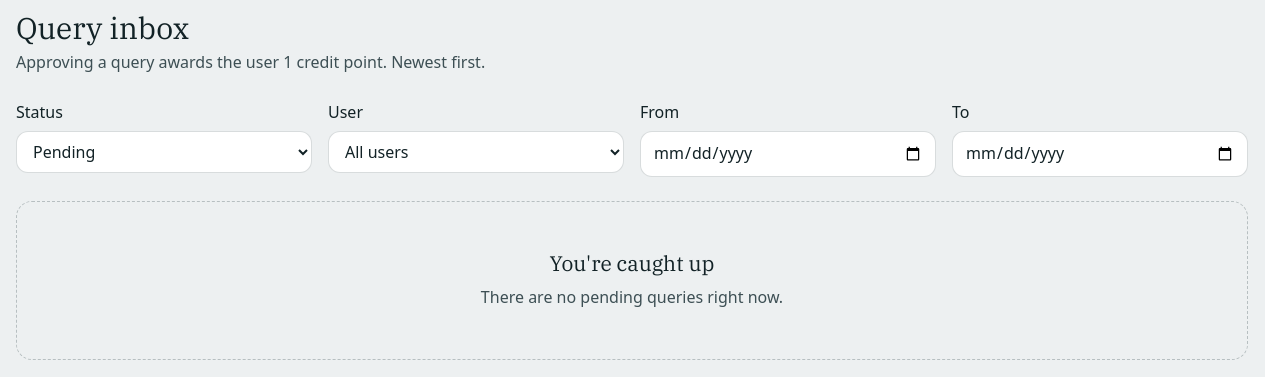
Scenario: QueriesPage › explains an inverted date range instead of fetching a misleading empty list
Expected: the text "You're caught up" is shown, x1=550 y1=250 x2=714 y2=277
Type "2026-02-10" into the date field labelled "From" at (788, 154), box x1=640 y1=131 x2=936 y2=177
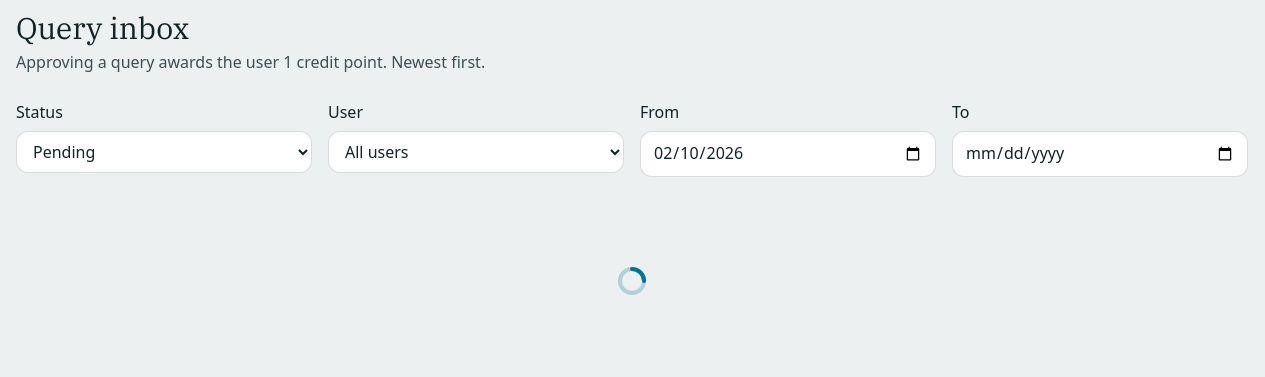
Type "2026-02-01" into the date field labelled "To" at (1100, 154), box x1=952 y1=131 x2=1248 y2=177
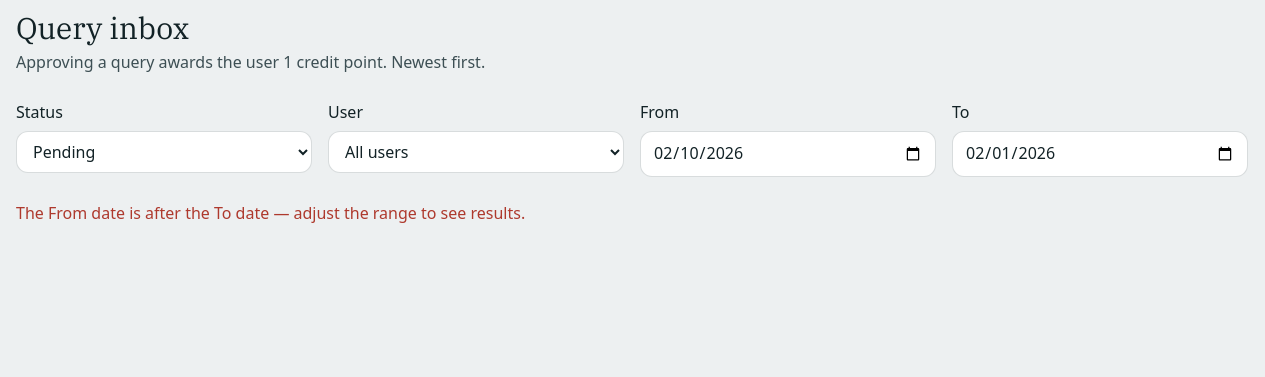
Expected: the text "You're caught up" is not shown
Now the text "The From date is after the To date — adjust the range to see results." is shown, box x1=16 y1=202 x2=525 y2=224
